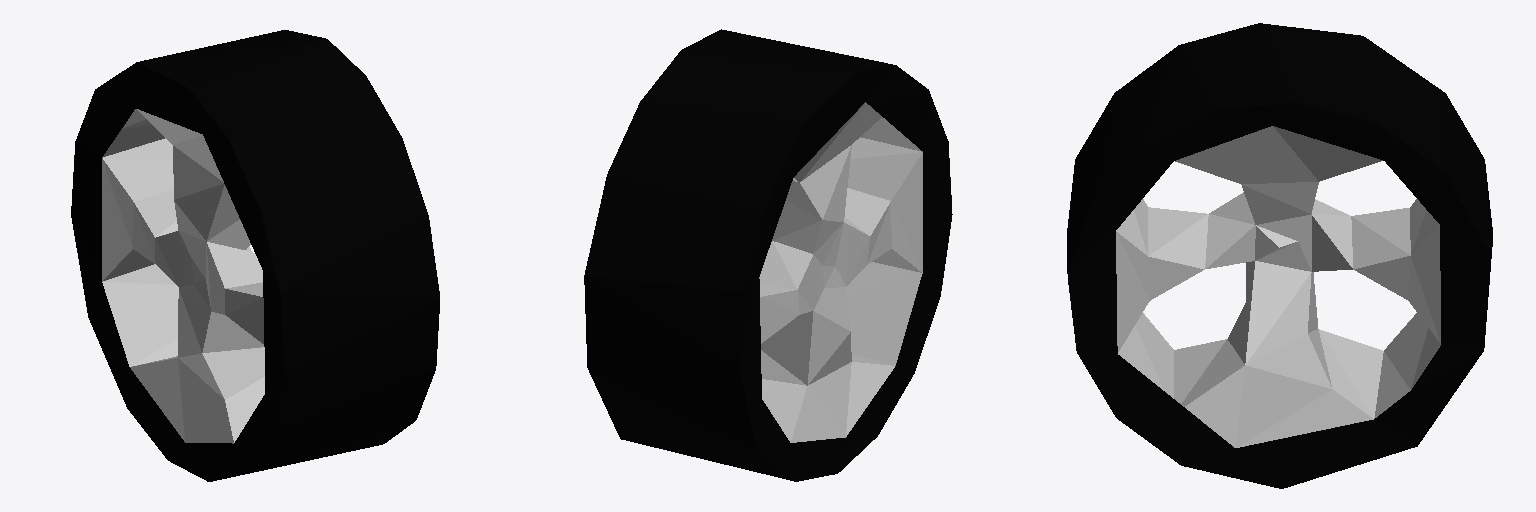
File: nomad_wheel.obj
3 views of the same model, side by side, from view 1: azimuth 30°, elevation 25°; view 2: azimuth 150°, elevation 25°; view 3: azimuth 270°, elevation 25° (orthographic).
Visible parts, largest first — view 1: Circle.008; view 2: Circle.008; view 3: Circle.008.
Boxes of the visible parts, x1,y1,x2,y2 form: Circle.008: [71, 30, 439, 481]; Circle.008: [584, 29, 952, 481]; Circle.008: [1067, 23, 1492, 488].
Bounding box in the file's own units: 1.07 × 2.52 × 2.5.